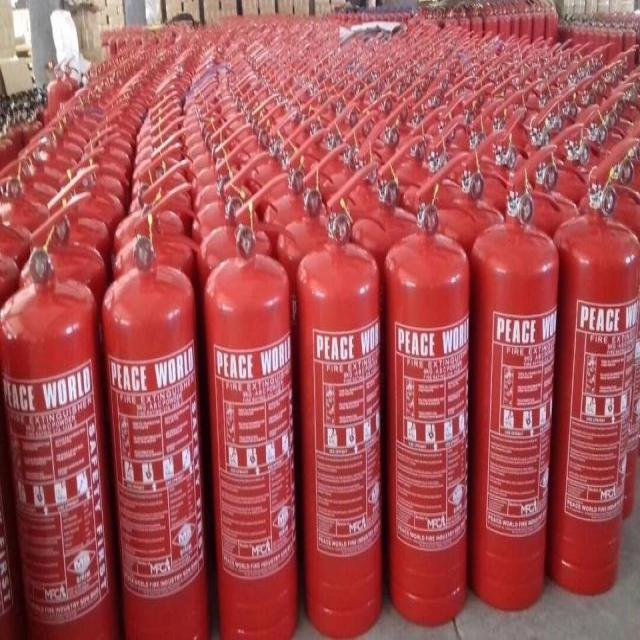fire_extinguisher: (96, 175, 220, 639), (0, 185, 126, 639), (458, 136, 564, 616), (289, 152, 392, 639), (196, 166, 301, 639), (376, 139, 477, 629), (537, 128, 639, 604), (43, 54, 78, 188), (542, 0, 558, 76), (529, 0, 546, 70), (603, 14, 622, 76), (620, 16, 638, 78), (480, 1, 501, 54), (518, 2, 534, 60), (467, 1, 485, 49), (497, 1, 512, 49), (457, 2, 472, 48), (508, 2, 521, 47)
